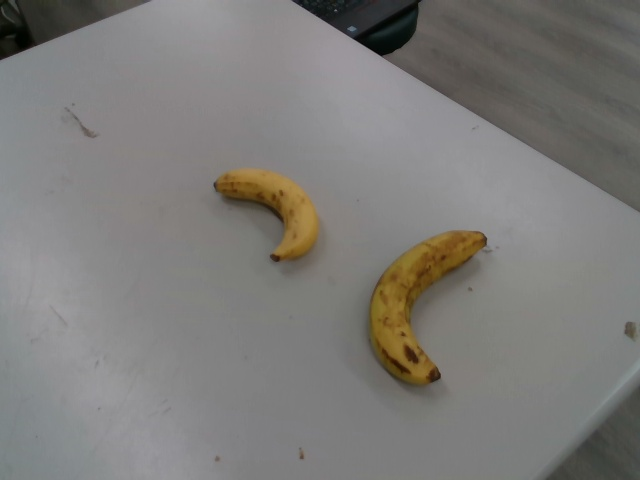banana: (364, 228, 489, 387), (211, 171, 322, 265)
